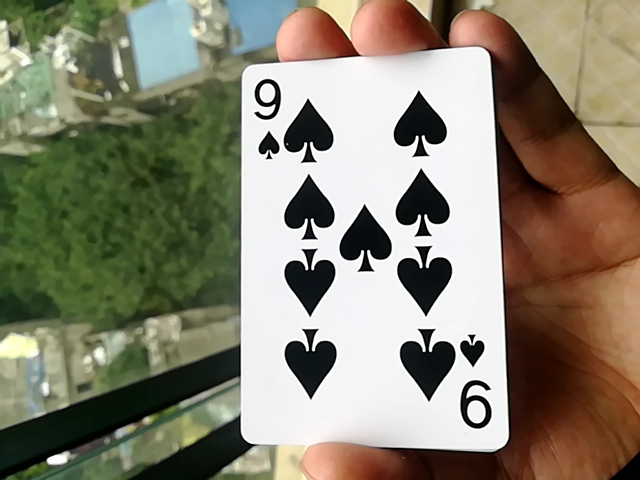ht 9: (232, 39, 502, 453)
